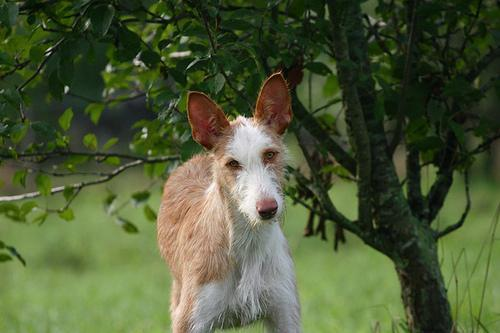Ibizan_hound: (155, 69, 309, 332)
